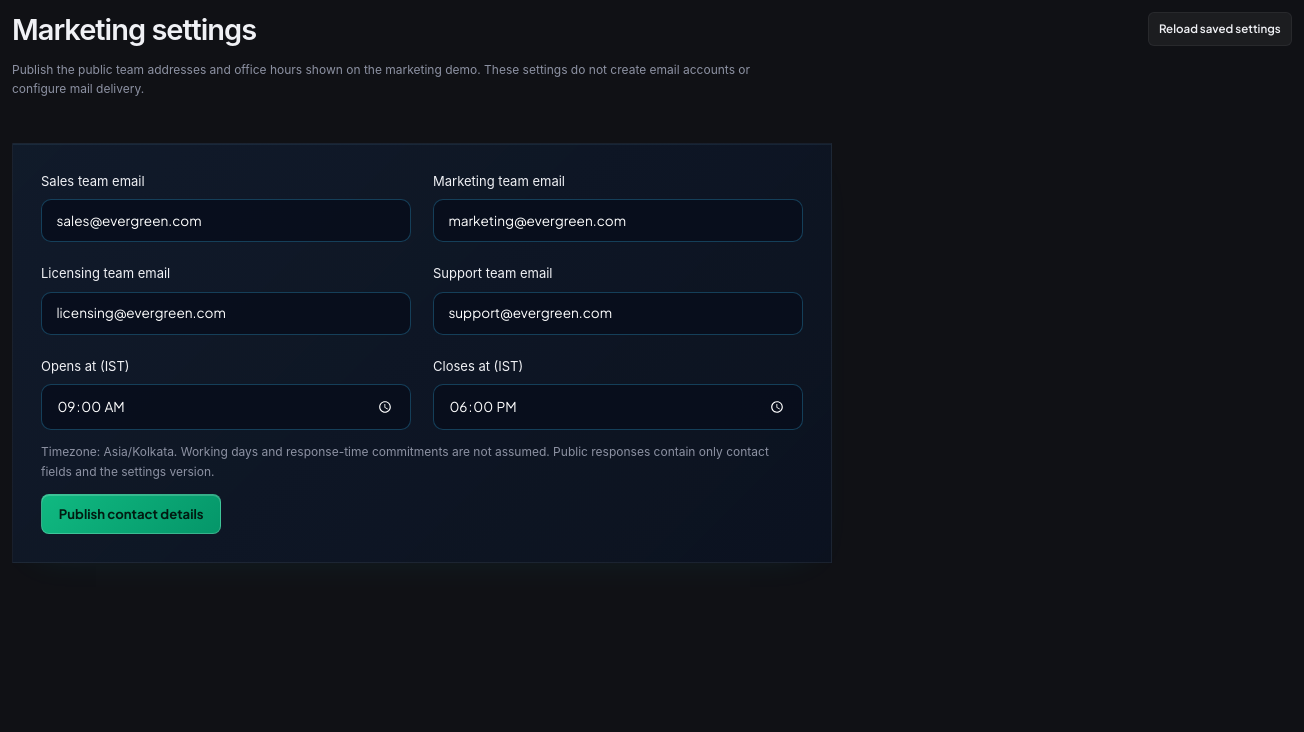
Test case: loads contacts and publishes the current version with the owner session
Expected: the button "Publish contact details" is enabled, 41,494 -> 221,534
Replace the text in the field showing "sales@evergreen.com" with "sales2@evergreen.com" at [226, 221], box 41,199 -> 411,242
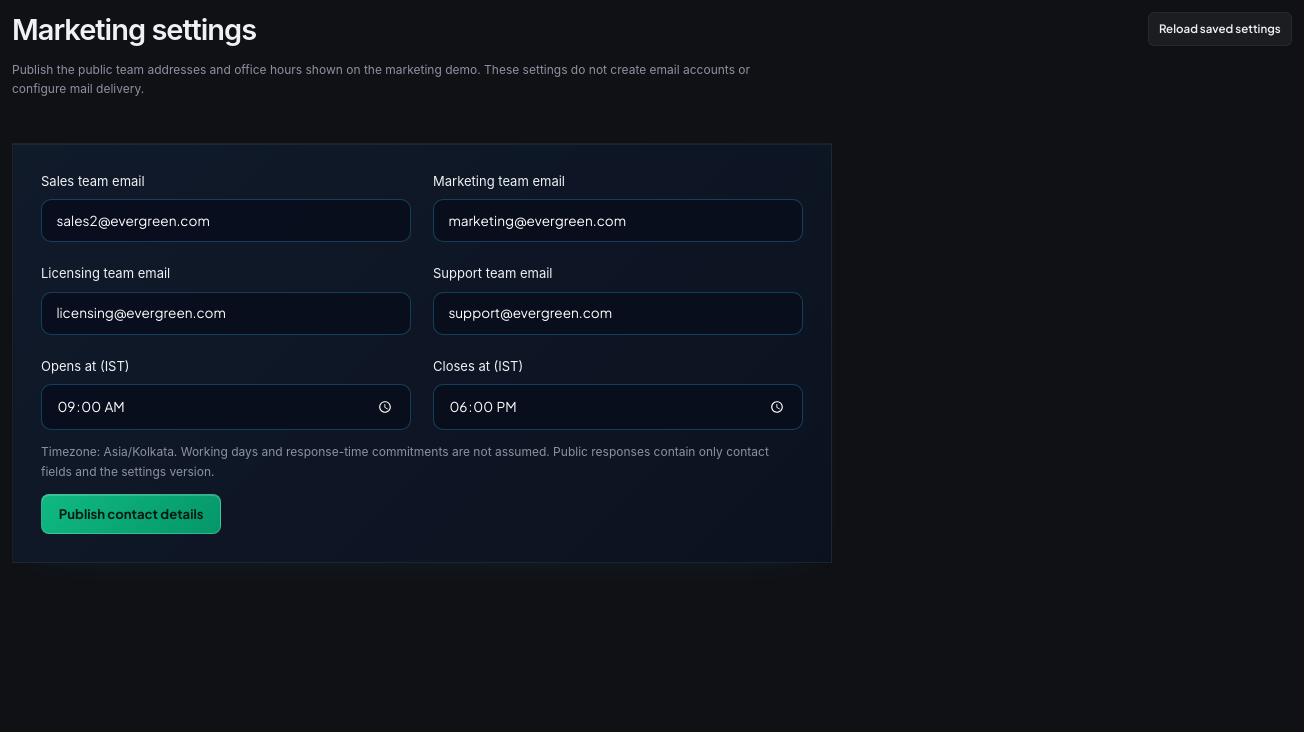
Click the button "Publish contact details" at [131, 514], box 41,494 -> 221,534
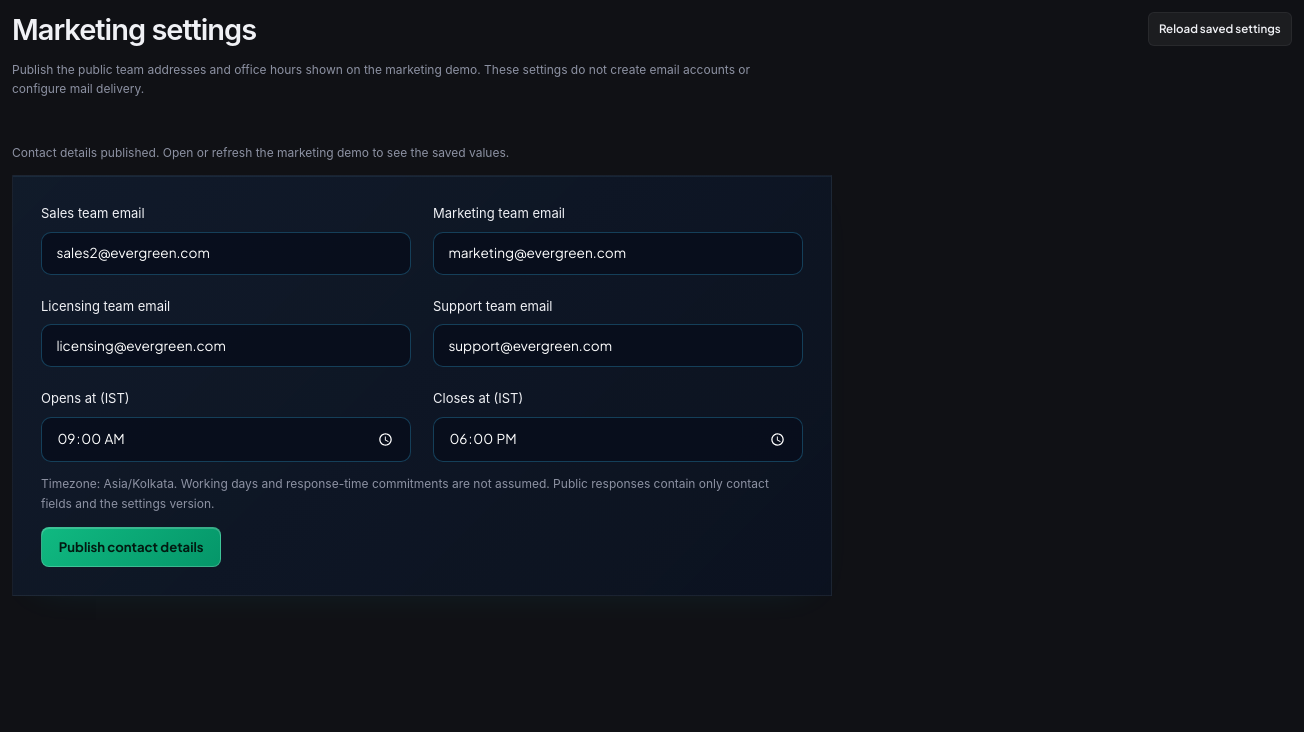
Expected: the text "Contact details published" is shown, 12,145 -> 509,160
